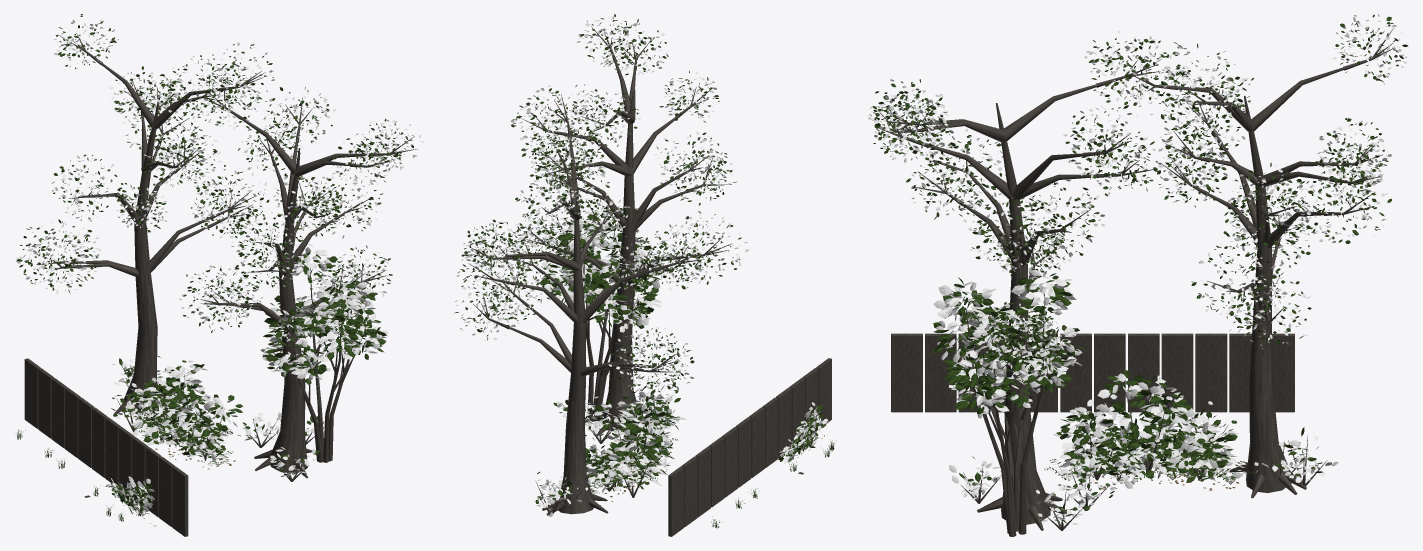
Rendered from SM_Env_Tile_p2_m2.fbx.
The picture shows the model from 3 angles, left to right: view 1: azimuth 30°, elevation 25°; view 2: azimuth 150°, elevation 25°; view 3: azimuth 270°, elevation 25°; orthographic projection. The views are drawn at different scales.
Parts seen in each view (by area): view 1: SM_Env_Tile_p2_m2; view 2: SM_Env_Tile_p2_m2; view 3: SM_Env_Tile_p2_m2.
Part boxes in pixels (x1,y1,x2,y2): SM_Env_Tile_p2_m2: [16, 14, 424, 536]; SM_Env_Tile_p2_m2: [454, 14, 836, 536]; SM_Env_Tile_p2_m2: [867, 14, 1407, 536].
Size of what is drawn, in the model's own units: 1287 by 1600 by 1552.
7 materials, 3 textured.
